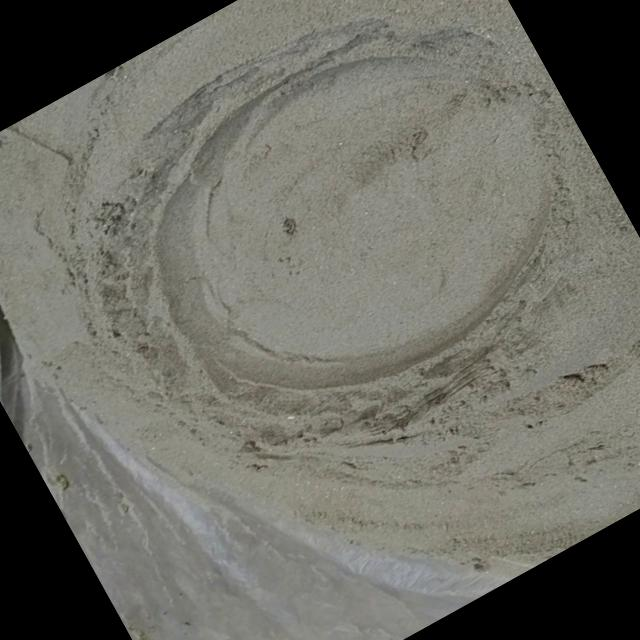C40: (127, 39, 552, 428)
